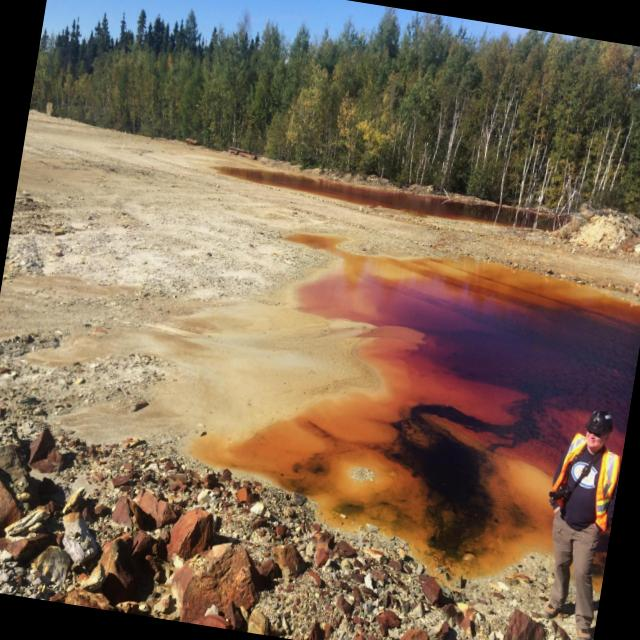yellow_boy: (198, 234, 640, 572)
